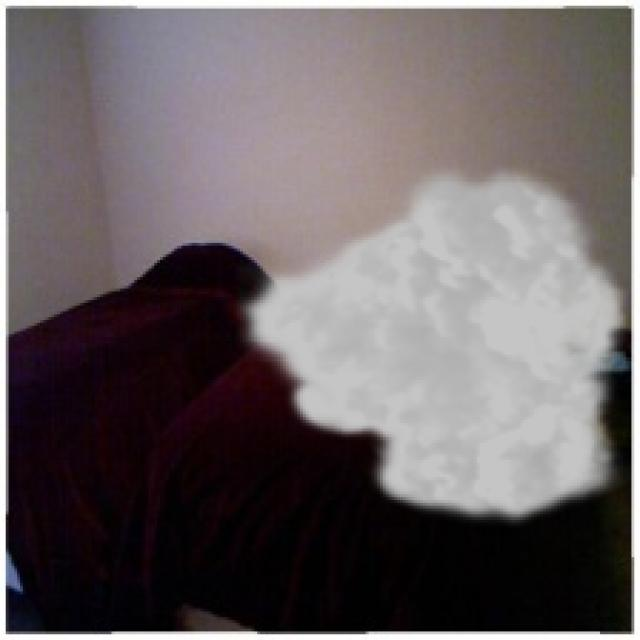smoke: (232, 157, 632, 529)
